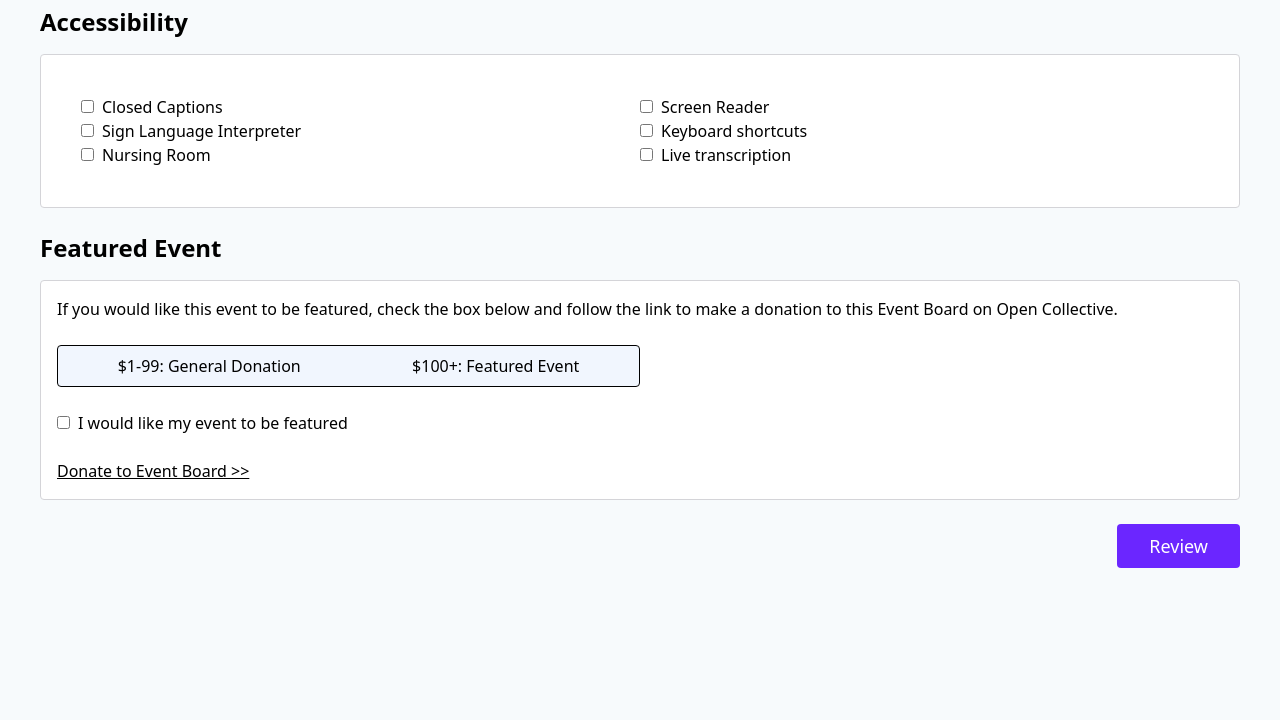
Test case: Event Form › validates required fields
(page scrolled)
Click the button "Review".
click(1179, 546)  # box x1=1117 y1=524 x2=1240 y2=568
(page scrolled)
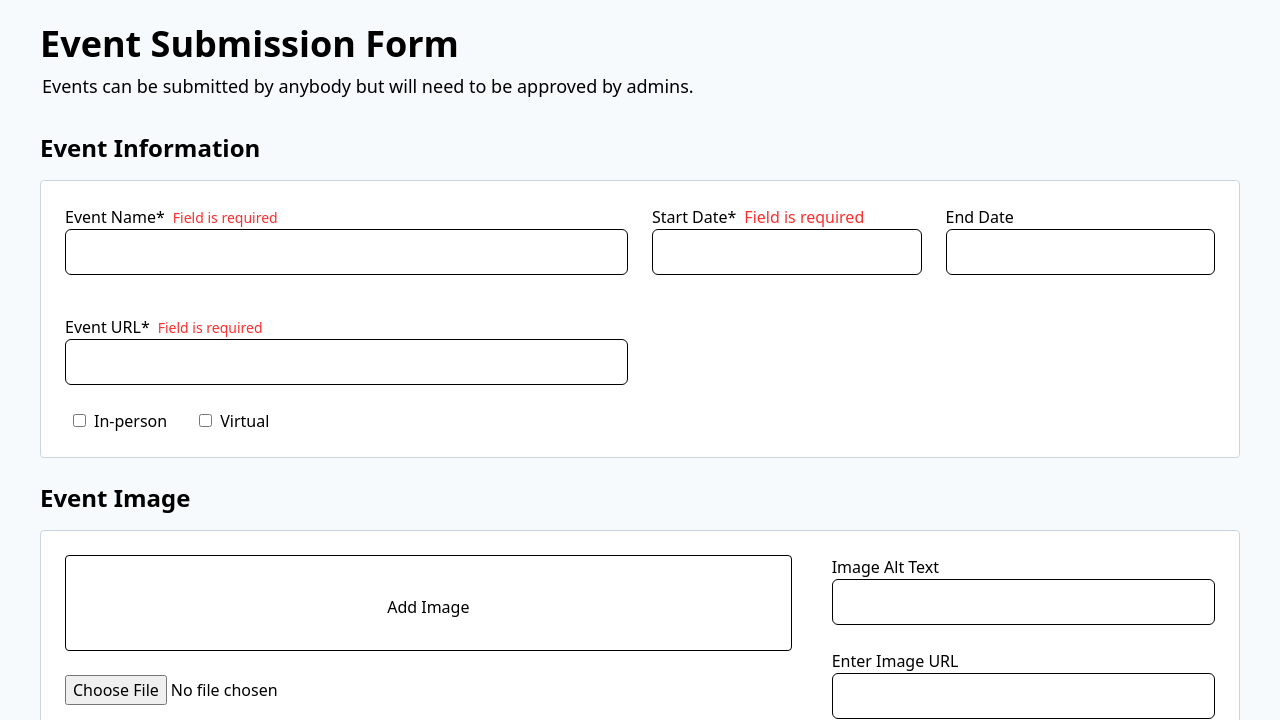
expect the text "Field is required" next to "Event Name*" is shown: met, box x1=173 y1=208 x2=278 y2=227
